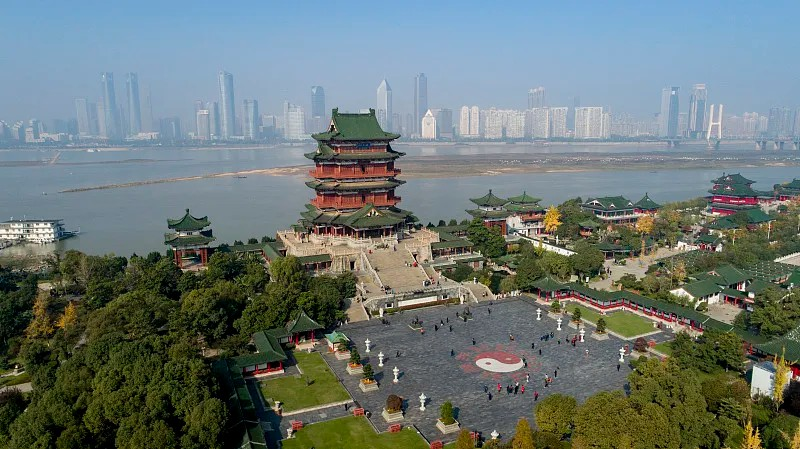Teng: (292, 109, 418, 239)
